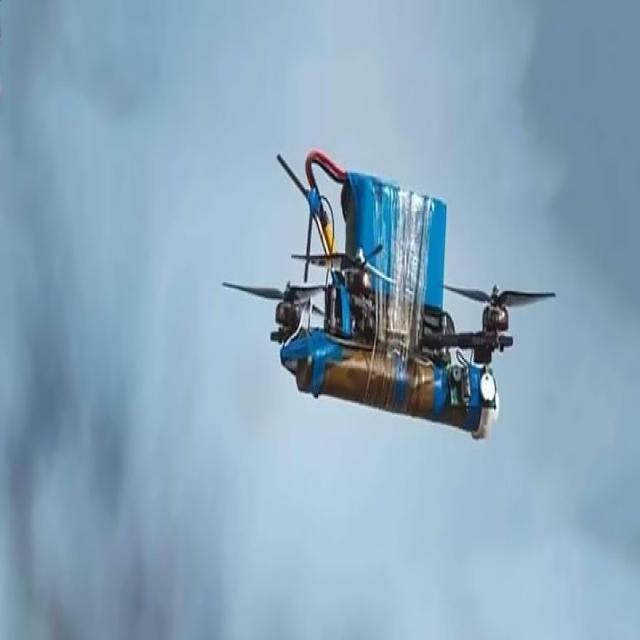drone: (221, 144, 561, 446)
